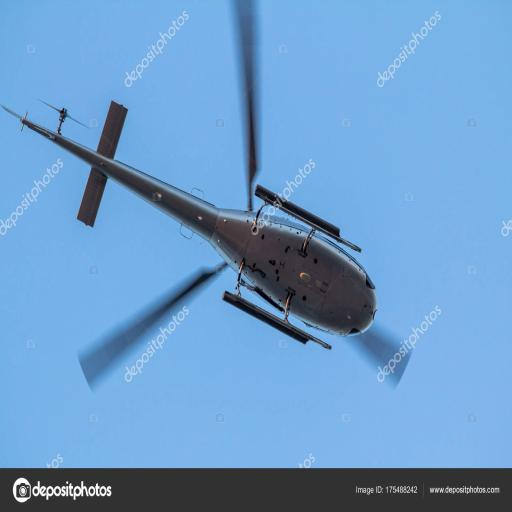helicopter: (12, 1, 413, 395)
